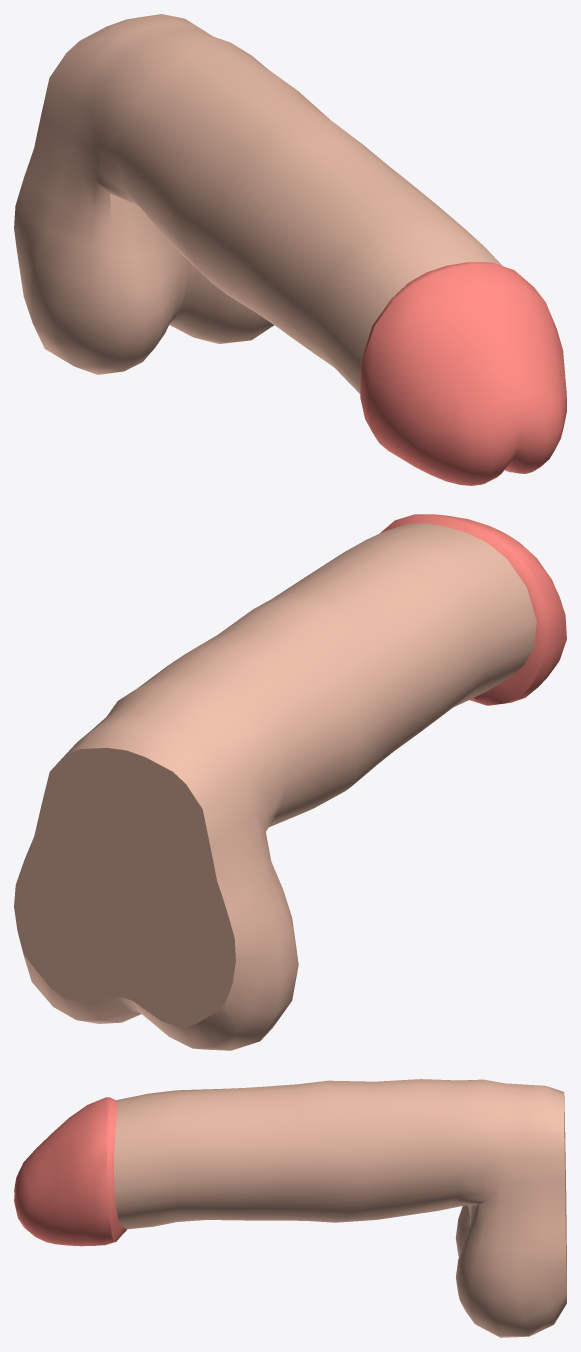
File: Dildo.fbx
3 renders of one model, top to bottom at view 1: azimuth 30°, elevation 25°; view 2: azimuth 150°, elevation 25°; view 3: azimuth 270°, elevation 25°, orthographic. The views are drawn at different scales.
Visible parts, largest first — view 1: Dildo; view 2: Dildo; view 3: Dildo.
Part boxes in pixels (x1=…): Dildo: x1=14, y1=14, x2=566, y2=485; Dildo: x1=14, y1=514, x2=566, y2=1050; Dildo: x1=14, y1=1079, x2=566, y2=1337.
Size of the model in its own units: 6.99 by 8.8 by 19.25.
